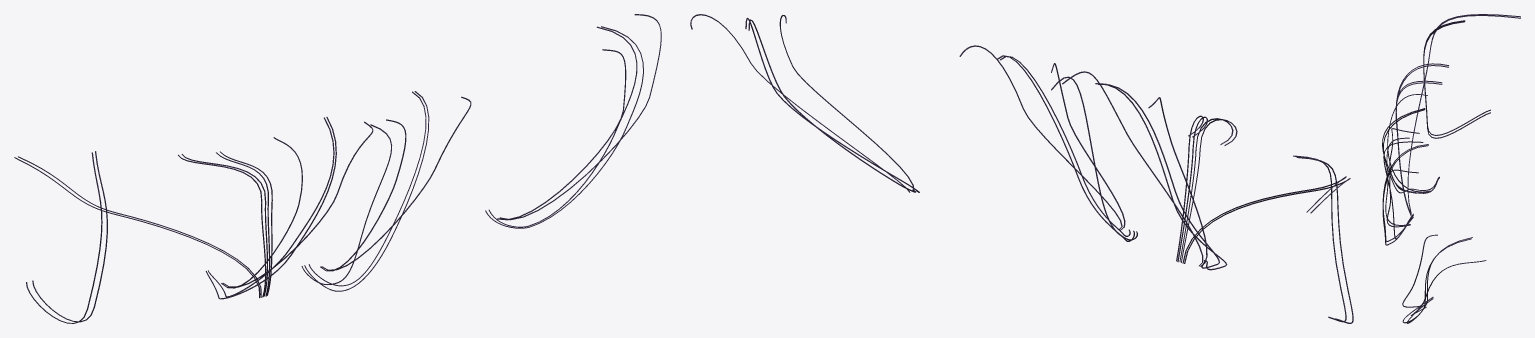
The model's file is provoda_compukter_dsp.fbx.
3 renders of one model, left to right at view 1: azimuth 30°, elevation 25°; view 2: azimuth 150°, elevation 25°; view 3: azimuth 270°, elevation 25°, orthographic. The views are drawn at different scales.
Parts seen in each view (by area): view 1: compukter_other, compukter_1, compukter_3, compukter_2; view 2: compukter_other, compukter_1, compukter_3, compukter_2; view 3: compukter_other, compukter_3, compukter_2, compukter_1.
Boxes of the visible parts, x1,y1,x2,y2 form: compukter_other: (14, 124, 392, 323); compukter_1: (485, 14, 661, 228); compukter_3: (205, 117, 373, 299); compukter_2: (304, 91, 471, 291); compukter_other: (1051, 76, 1353, 323); compukter_1: (690, 14, 919, 192); compukter_3: (1062, 71, 1227, 270); compukter_2: (959, 45, 1134, 241); compukter_other: (1383, 14, 1520, 239); compukter_3: (1382, 94, 1439, 193); compukter_2: (1382, 137, 1428, 245); compukter_1: (1402, 234, 1486, 323).
Size of the model in its own units: 445 by 111 by 100.
